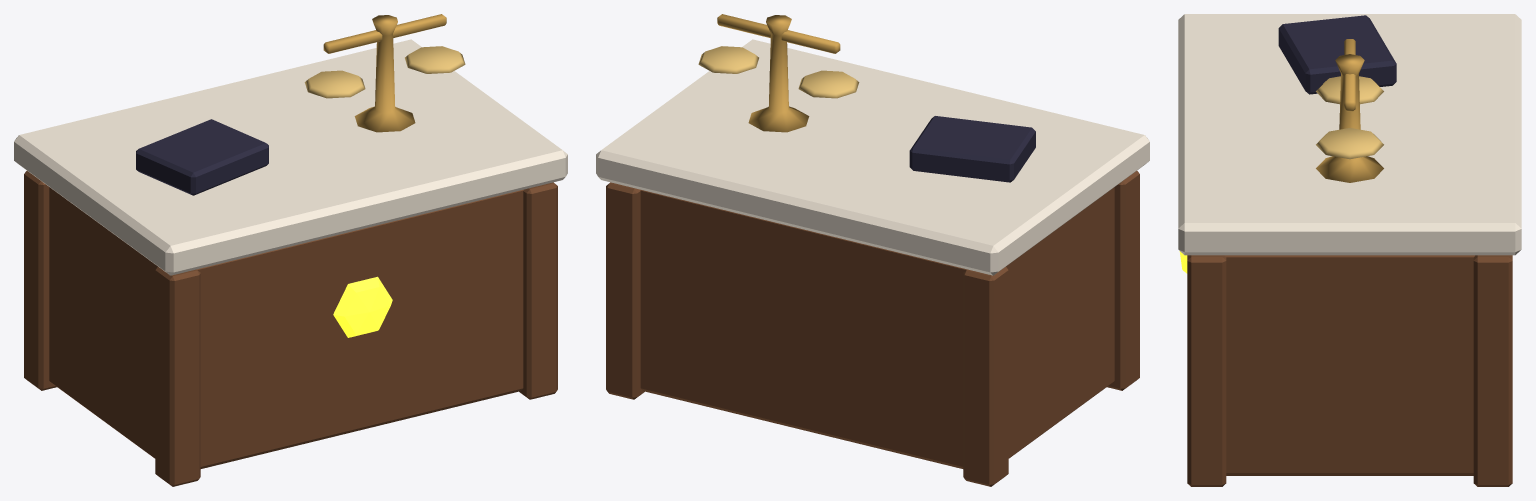
The model's file is SellStand_Prototype.fbx.
3 renders of one model, left to right at view 1: azimuth 30°, elevation 25°; view 2: azimuth 150°, elevation 25°; view 3: azimuth 270°, elevation 25°, orthographic. The views are drawn at different scales.
Parts seen in each view (by area): view 1: TimberBase, CounterTop, LedgerBox, BrassScales, ScalePans, AccentGem; view 2: TimberBase, CounterTop, LedgerBox, BrassScales, ScalePans; view 3: TimberBase, CounterTop, LedgerBox, BrassScales, ScalePans.
Boxes of the visible parts, left/top/right/bottom form: TimberBase: left=24, top=171, right=557, bottom=486; CounterTop: left=14, top=39, right=567, bottom=275; LedgerBox: left=136, top=119, right=268, bottom=195; BrassScales: left=323, top=14, right=446, bottom=132; ScalePans: left=304, top=46, right=465, bottom=98; AccentGem: left=333, top=276, right=392, bottom=337; TimberBase: left=606, top=171, right=1139, bottom=486; CounterTop: left=596, top=39, right=1149, bottom=275; LedgerBox: left=909, top=116, right=1035, bottom=182; BrassScales: left=717, top=14, right=840, bottom=132; ScalePans: left=698, top=46, right=859, bottom=98; TimberBase: left=1187, top=255, right=1512, bottom=486; CounterTop: left=1178, top=14, right=1521, bottom=255; LedgerBox: left=1278, top=15, right=1396, bottom=94; BrassScales: left=1316, top=39, right=1383, bottom=182; ScalePans: left=1316, top=76, right=1383, bottom=159.
Bounding box in the file's own units: 6.2 × 5.06 × 4.2.
